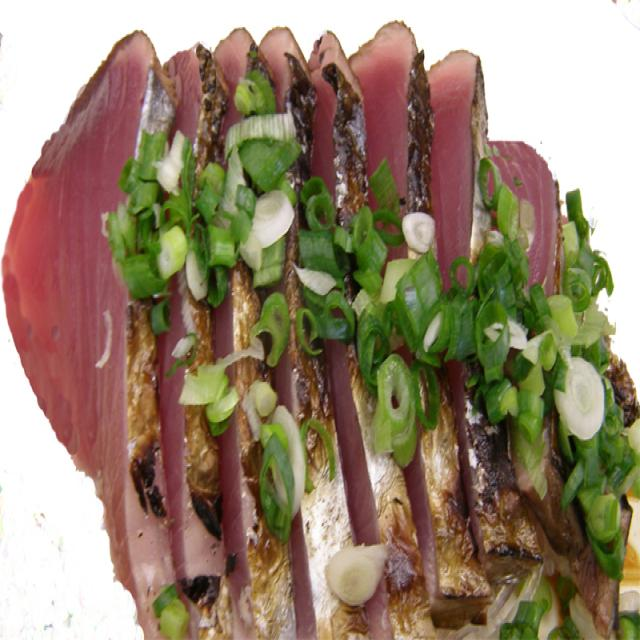熟制海鲜: (25, 17, 625, 627)
